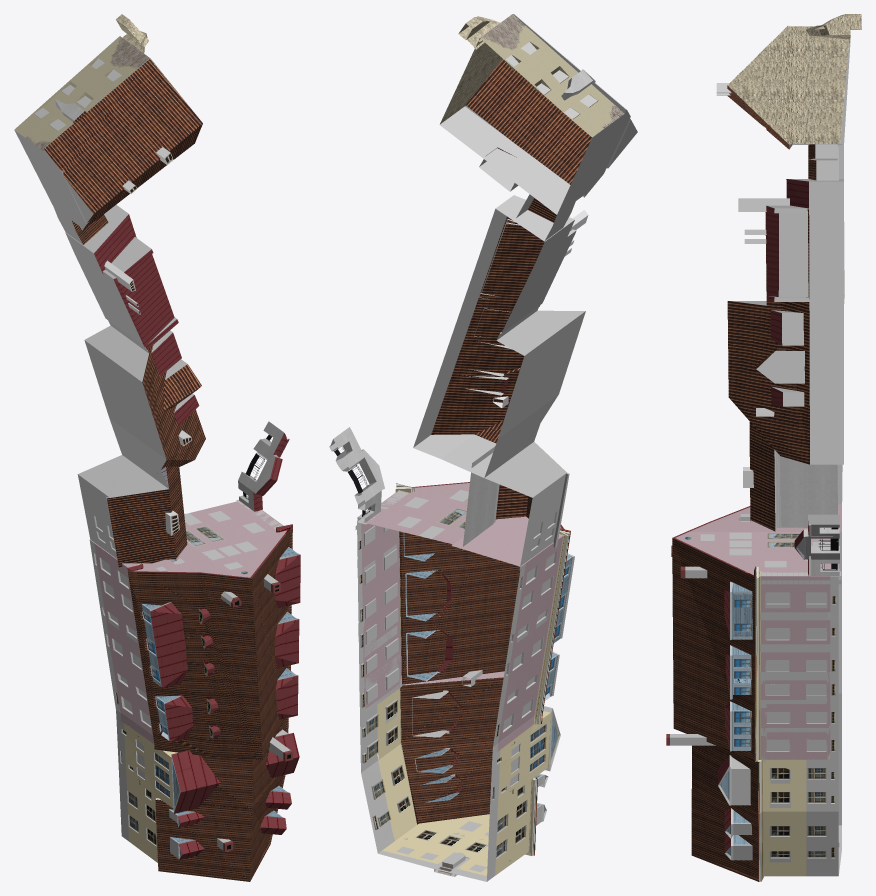
File: Kiriku_poik_1-origo.obj
3 views of the same model, side by side, from view 1: azimuth 30°, elevation 25°; view 2: azimuth 150°, elevation 25°; view 3: azimuth 270°, elevation 25° (orthographic). The views are drawn at different scales.
Parts seen in each view (by area): view 1: Kiriku_poik_1; view 2: Kiriku_poik_1; view 3: Kiriku_poik_1.
Part boxes in pixels (left/top/right/bottom): Kiriku_poik_1: left=14, top=14, right=300, bottom=881; Kiriku_poik_1: left=329, top=14, right=637, bottom=881; Kiriku_poik_1: left=666, top=14, right=861, bottom=881.
Bounding box in the file's own units: 33.5 × 102 × 22.04.
